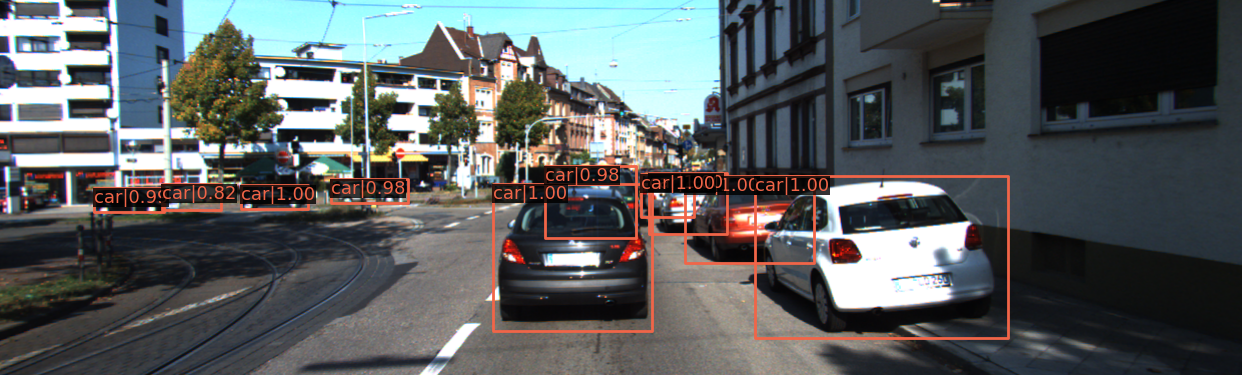car: (761, 175, 1006, 346), (496, 181, 652, 330), (687, 178, 810, 268), (565, 166, 641, 246), (657, 176, 729, 238), (92, 187, 174, 219), (242, 186, 308, 212), (338, 180, 399, 207), (646, 178, 688, 216), (547, 175, 586, 205)
